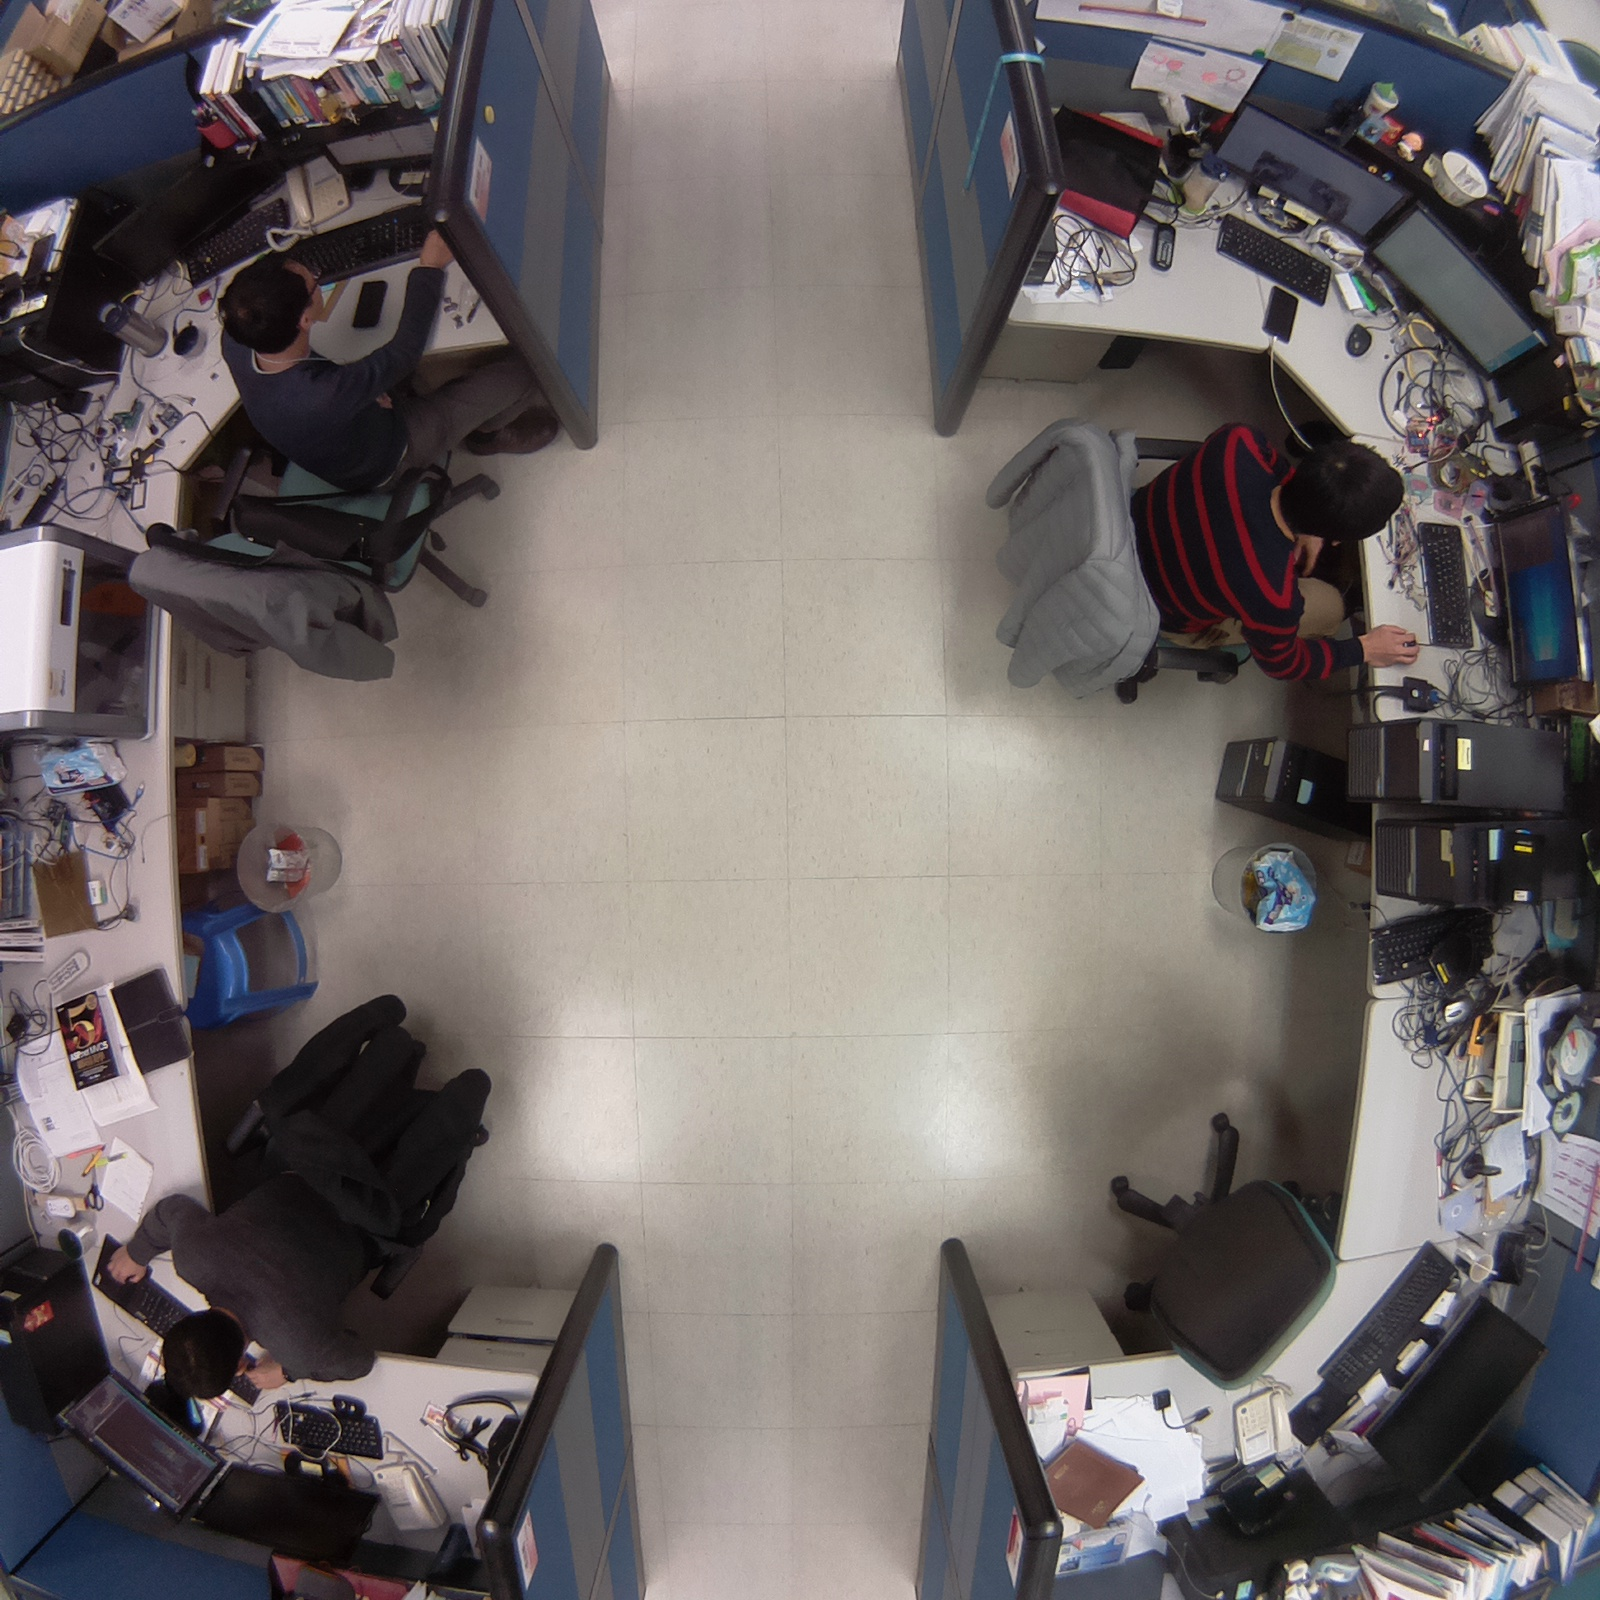chair: (1078, 1073, 1358, 1411)
head: (1276, 436, 1410, 542), (217, 246, 338, 348), (157, 1308, 251, 1404)
sitting: (124, 201, 568, 696), (101, 970, 499, 1417), (968, 378, 1437, 719)
